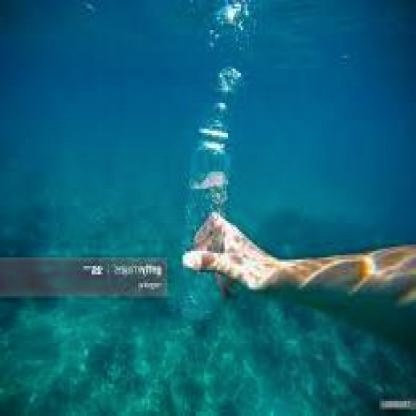pbottle: (170, 103, 236, 332)
